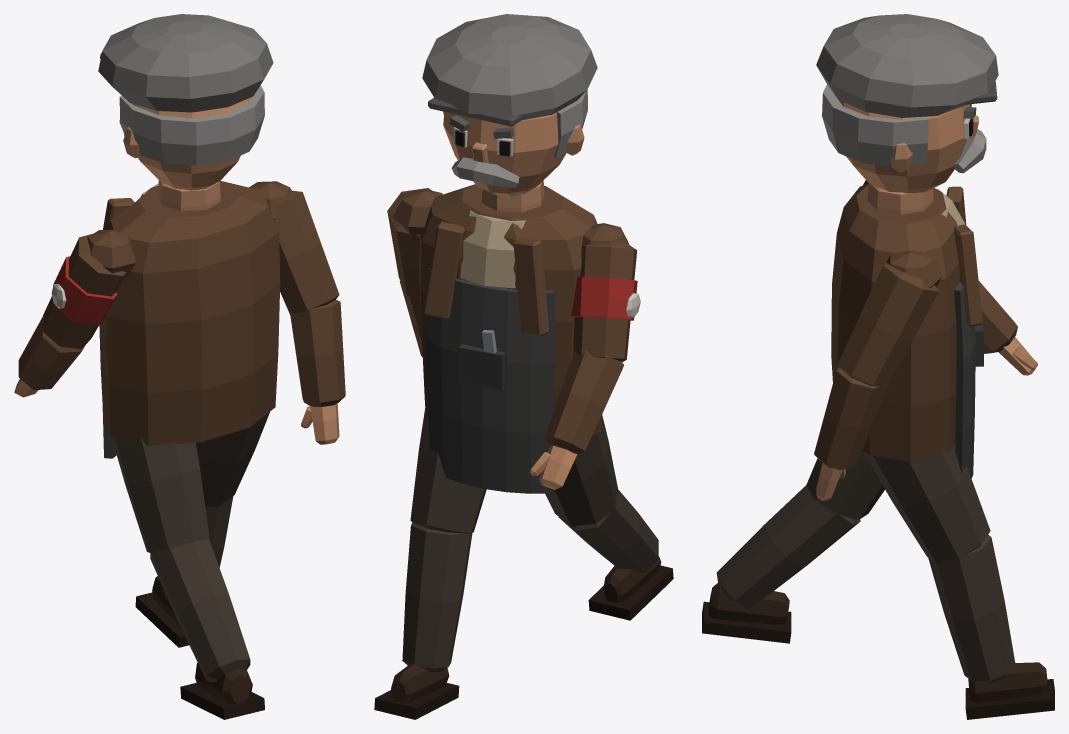
File: chr_otto_w2.glb
3 views of the same model, side by side, from view 1: azimuth 30°, elevation 25°; view 2: azimuth 150°, elevation 25°; view 3: azimuth 270°, elevation 25° (orthographic).
Visible parts, largest first — view 1: chr_otto_w2; view 2: chr_otto_w2; view 3: chr_otto_w2.
Boxes of the visible parts, bbox=[...] form: chr_otto_w2: bbox=[14, 14, 345, 719]; chr_otto_w2: bbox=[374, 14, 673, 719]; chr_otto_w2: bbox=[702, 14, 1054, 719].
Size of the model in its own units: 0.7133 by 1.72 by 0.8346.
